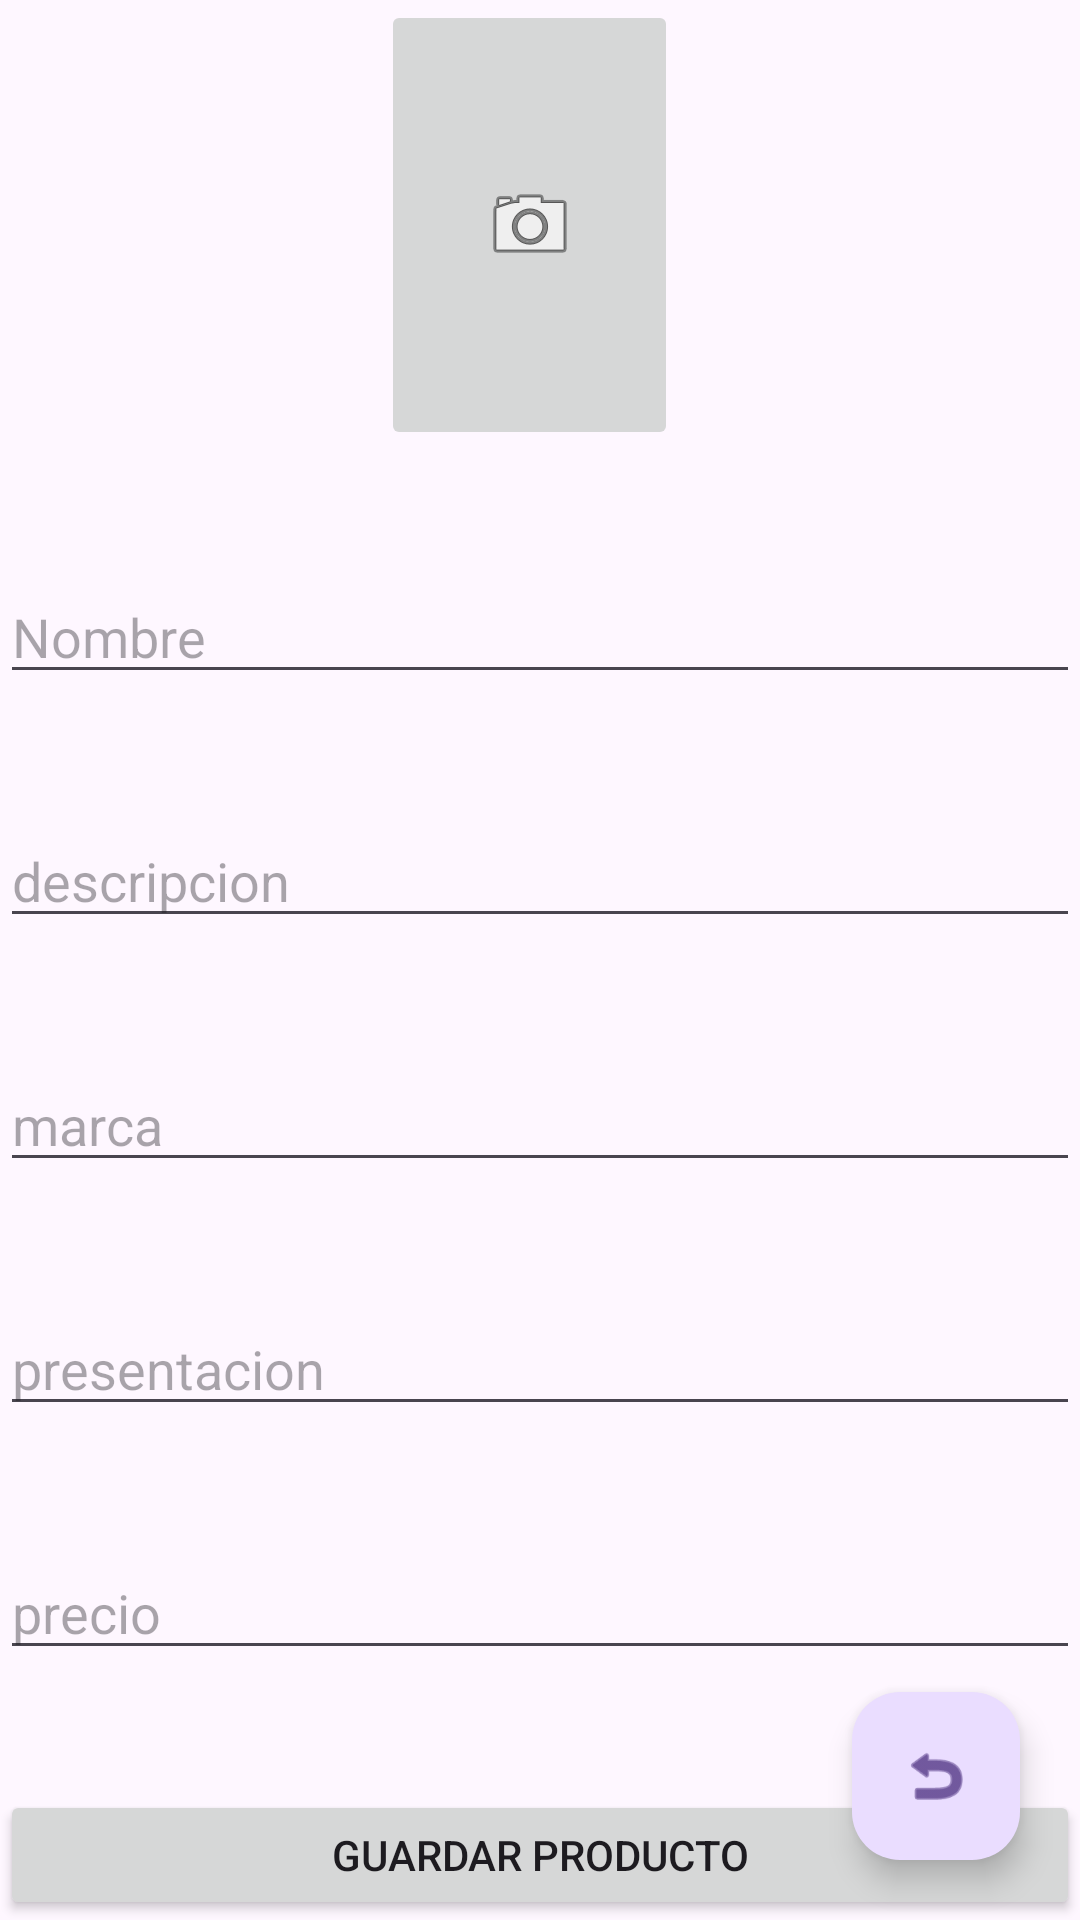

Named icons in this screenshot (1080*1920) and their centers, [x,y]:
revert: [936,1776]
